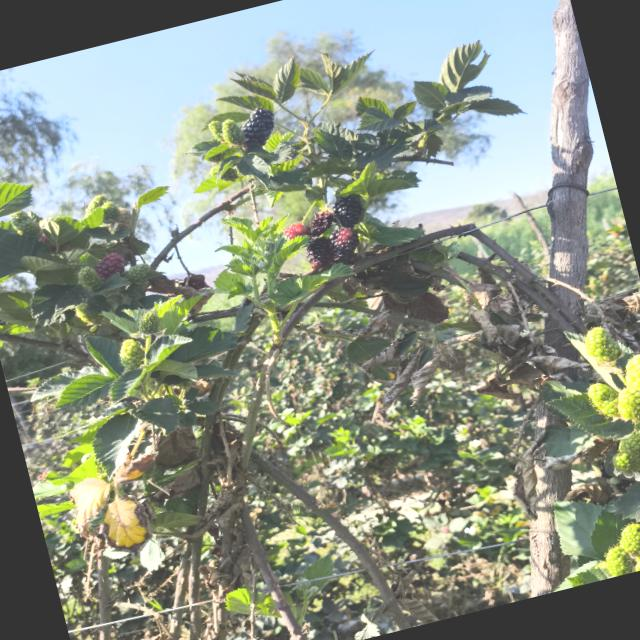maduro: (242, 107, 274, 147), (332, 194, 362, 227), (305, 237, 334, 269)
marron: (329, 227, 358, 258), (93, 253, 124, 281)
verde: (584, 327, 620, 362), (587, 382, 618, 417), (604, 545, 633, 577), (119, 339, 144, 369), (617, 387, 640, 419), (618, 523, 640, 554), (221, 119, 244, 146), (123, 263, 152, 284), (612, 451, 640, 472), (78, 266, 102, 290), (619, 432, 640, 459), (625, 354, 640, 388), (85, 194, 107, 215), (208, 120, 224, 142), (80, 254, 96, 267)
